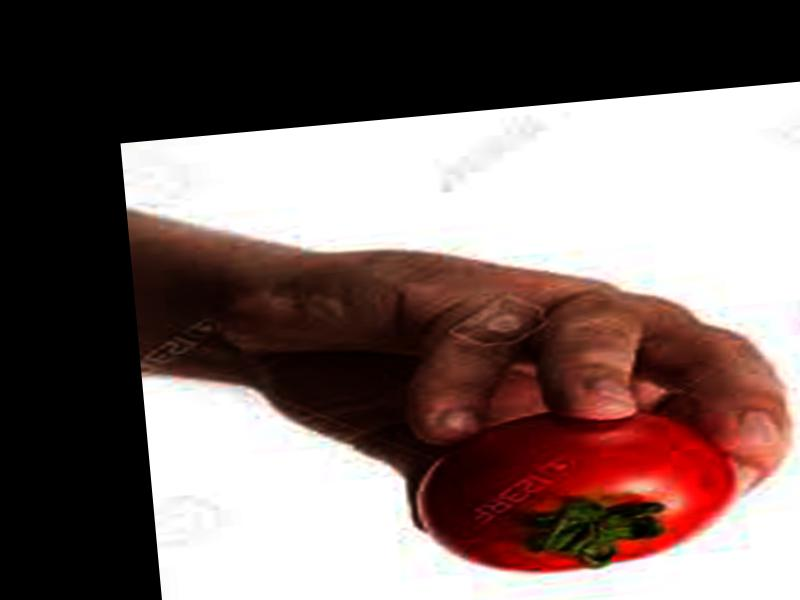Tomato: (413, 399, 741, 584)
